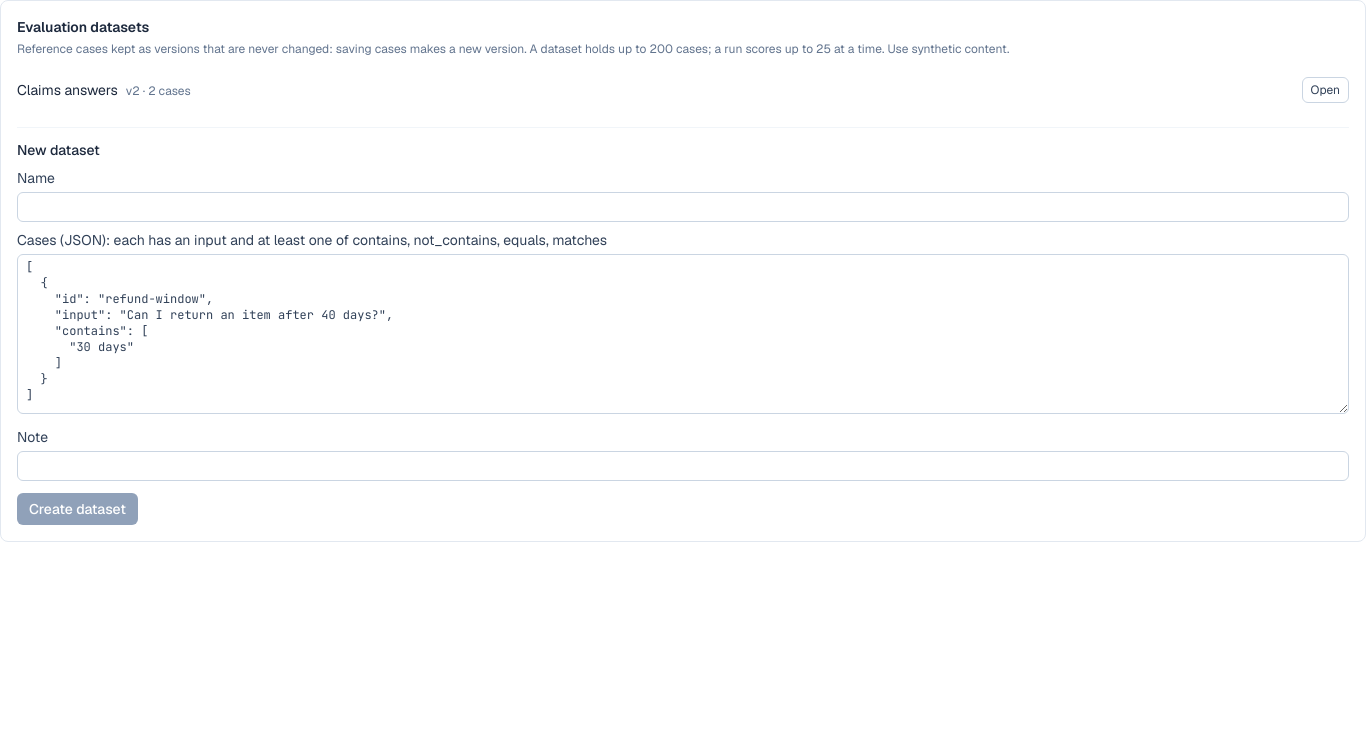
it: EvalDatasets › shows an earlier version and says saving it makes a new one
Click the button with test id "eval-dataset-open-d1" at (1325, 90), box top-left (1302, 77), bottom-right (1349, 103)
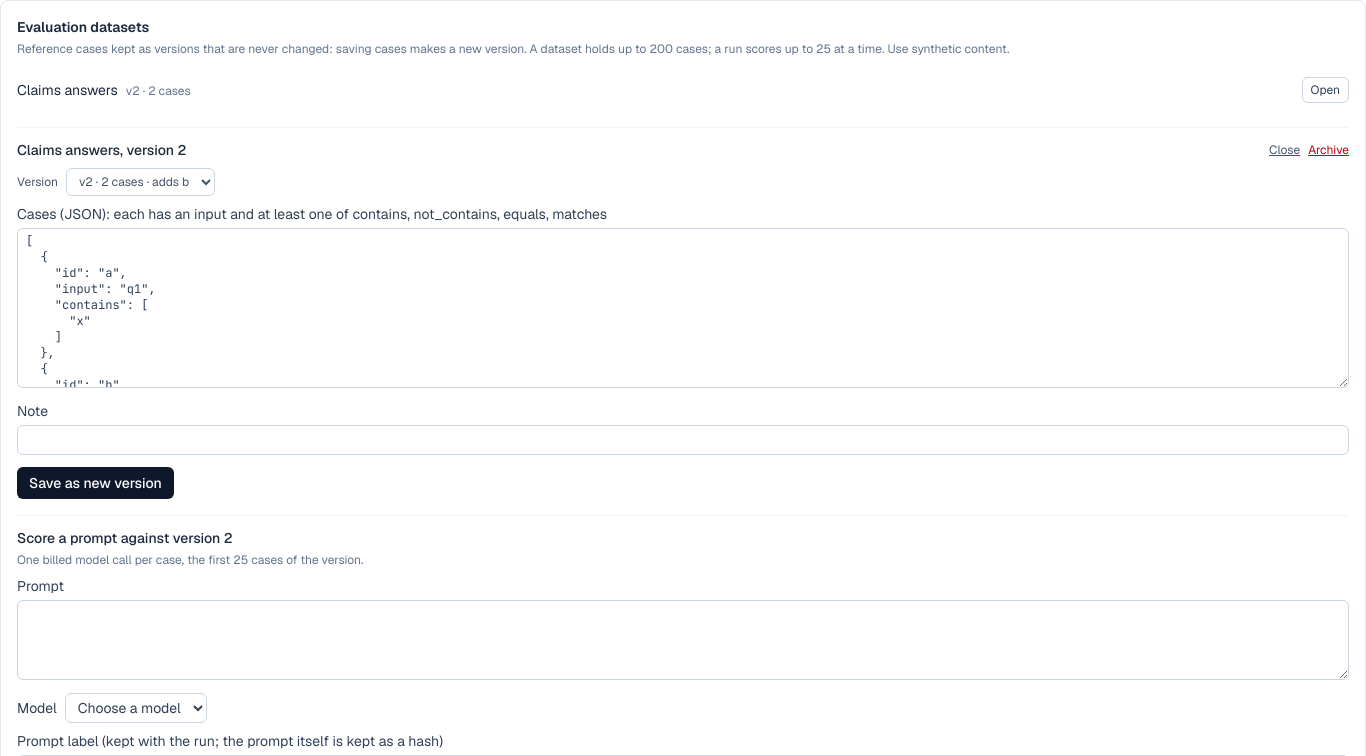
Result: the heading with test id "eval-dataset-heading" reads "Claims answers, version 2" at top-left (17, 141), bottom-right (186, 159)
Select "v1 · 1 cases" in the dropdown with test id "eval-dataset-version" at (140, 182), box top-left (66, 168), bottom-right (215, 196)
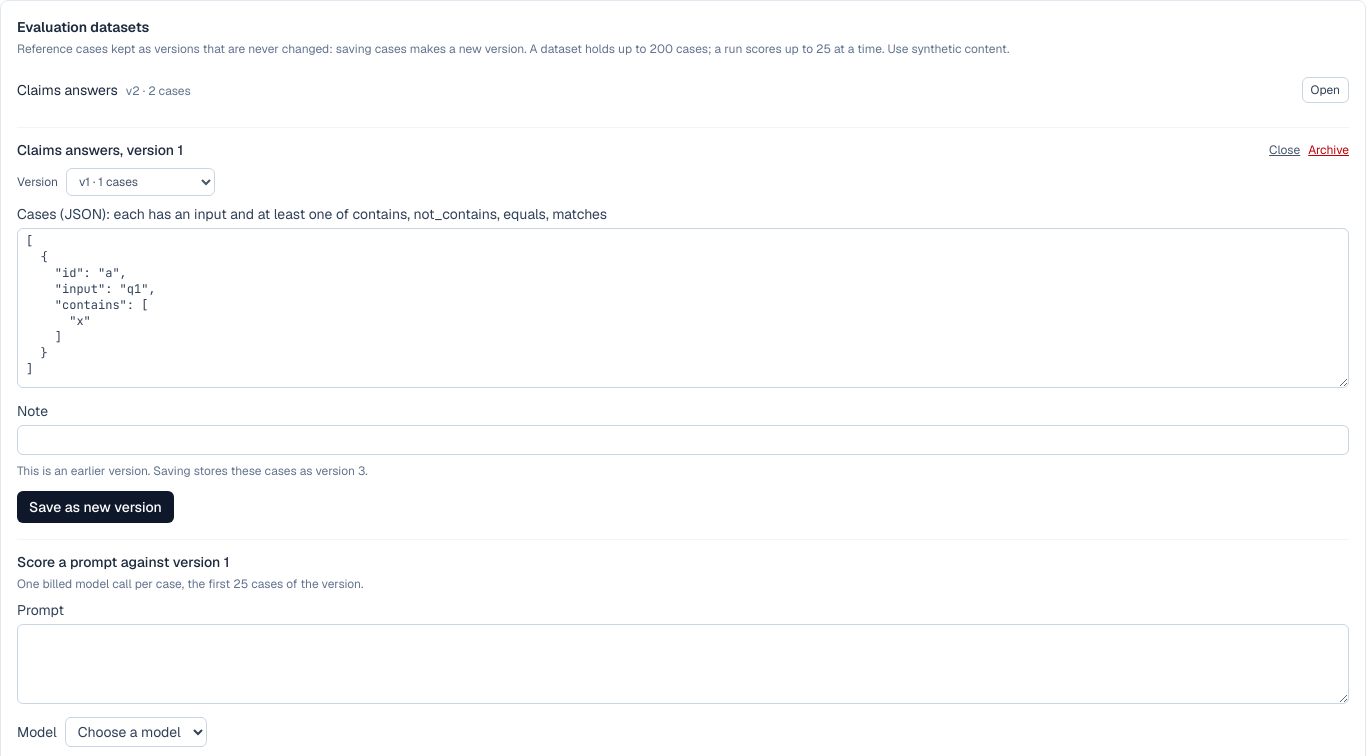
Result: the heading with test id "eval-dataset-heading" shows "version 1" at top-left (17, 141), bottom-right (183, 159)
Result: the text "Saving stores these cases as version 3" is shown at top-left (17, 463), bottom-right (368, 479)
